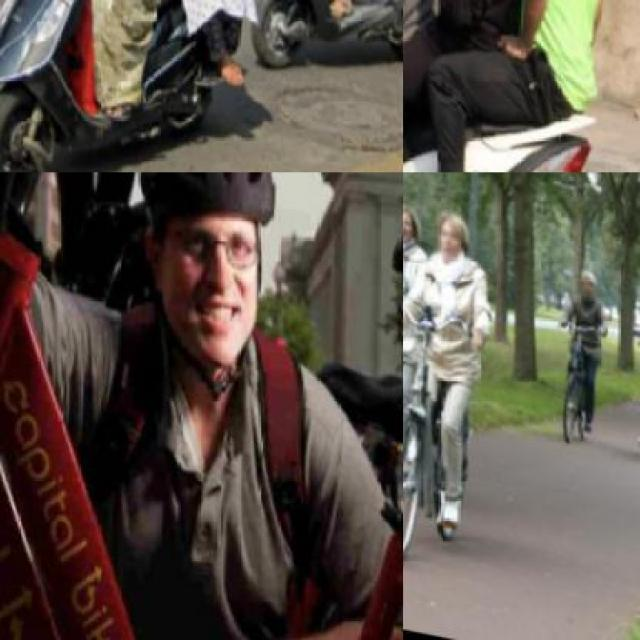With Helmet: (112, 172, 305, 371)
Without Helmet: (428, 203, 468, 266), (403, 196, 422, 256), (572, 259, 598, 301)
